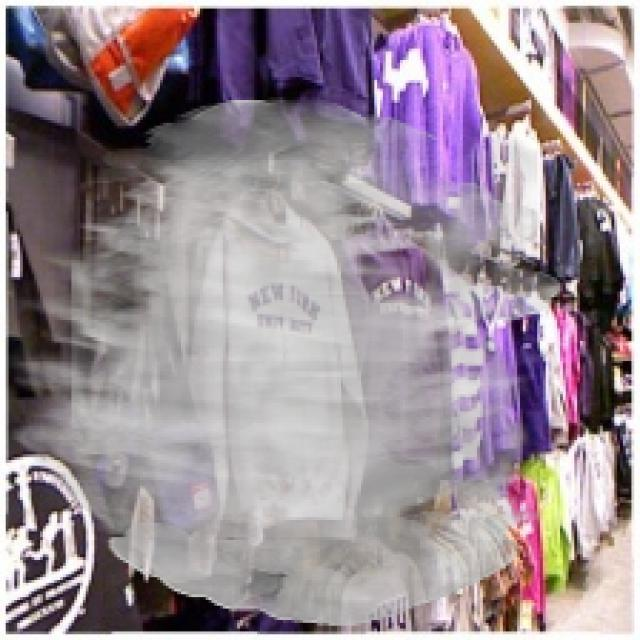Smoke: (6, 97, 563, 626)
